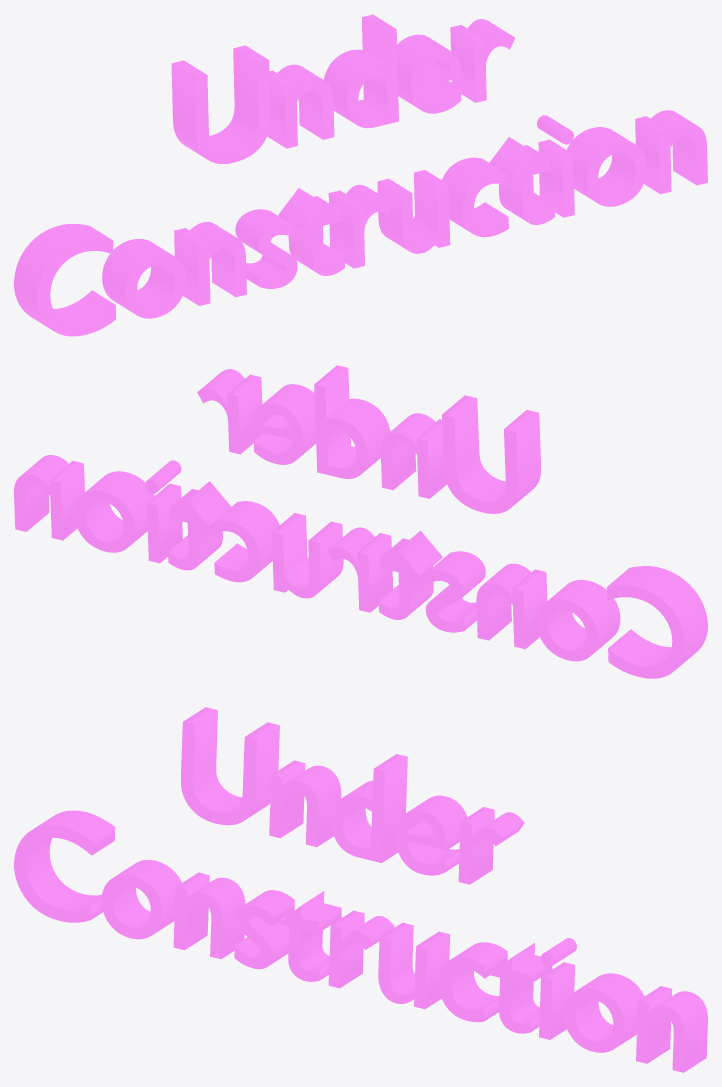
The model's file is under-construction.gltf.
The picture shows the model from 3 angles, top to bottom: view 1: azimuth 30°, elevation 25°; view 2: azimuth 150°, elevation 25°; view 3: azimuth 330°, elevation 25°; orthographic projection.
Visible parts, largest first — view 1: Text; view 2: Text; view 3: Text.
Part boxes in pixels (x1,y1,x2,y2): Text: (14,14,707,336); Text: (14,365,707,678); Text: (14,707,707,1072).
Bounding box in the file's own units: 2.6 × 0.8446 × 0.2104.
